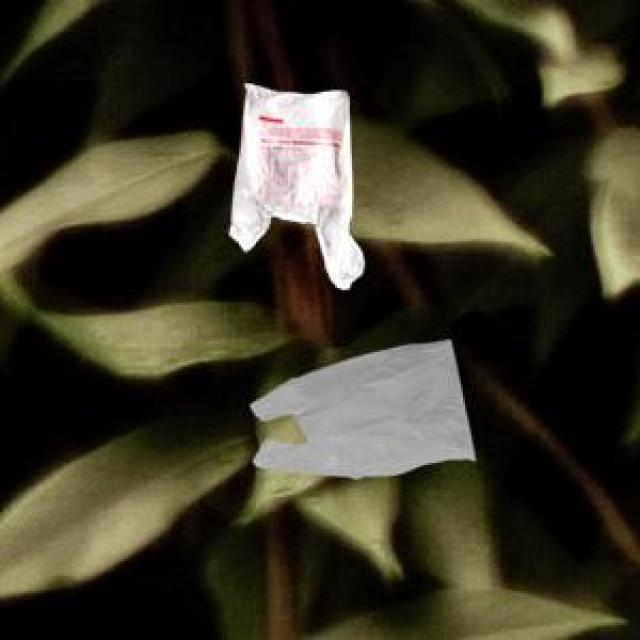waste: (252, 340, 475, 477), (230, 84, 365, 289), (314, 160, 361, 267)
